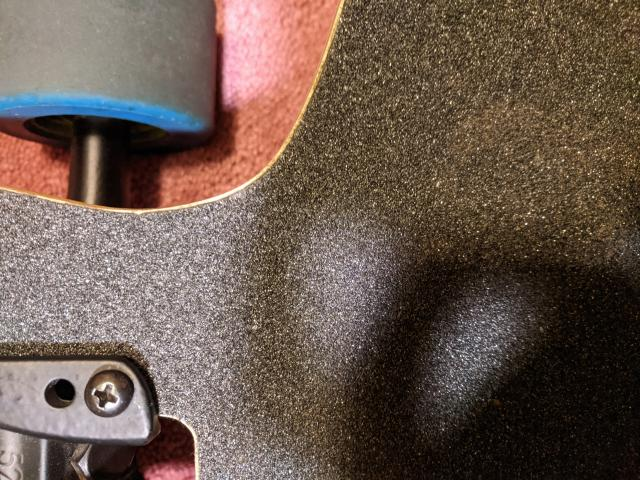CRS: (83, 372, 134, 416)
